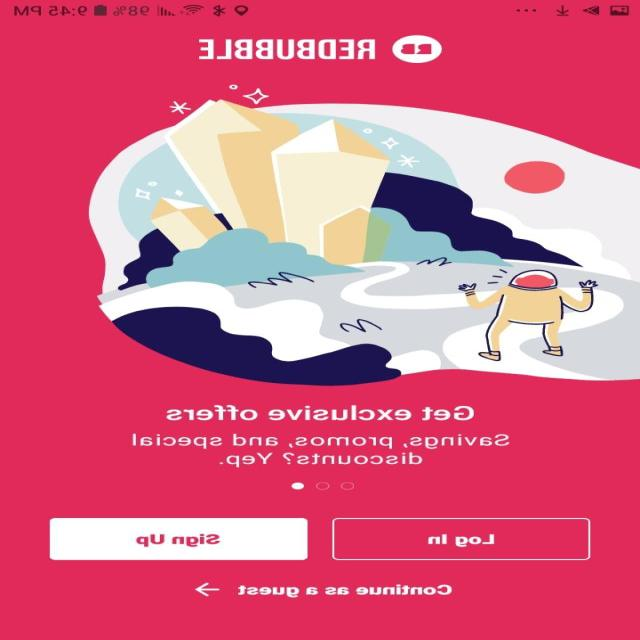Icon: (196, 582, 222, 596)
Image: (88, 84, 640, 386), (392, 34, 444, 64)
Text: (132, 432, 510, 468), (166, 404, 476, 420), (199, 39, 377, 60), (238, 584, 452, 598)
TextButton: (333, 517, 591, 560), (49, 518, 308, 560)
